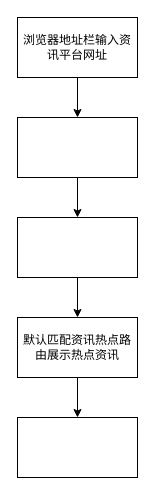
This 155x495 diagram has some shape labels left out. Each missing label, with the centre of its shape:
"点击欢迎界面" goes at pixel 77 247.
"默认显示欢迎界面" goes at pixel 77 147.
